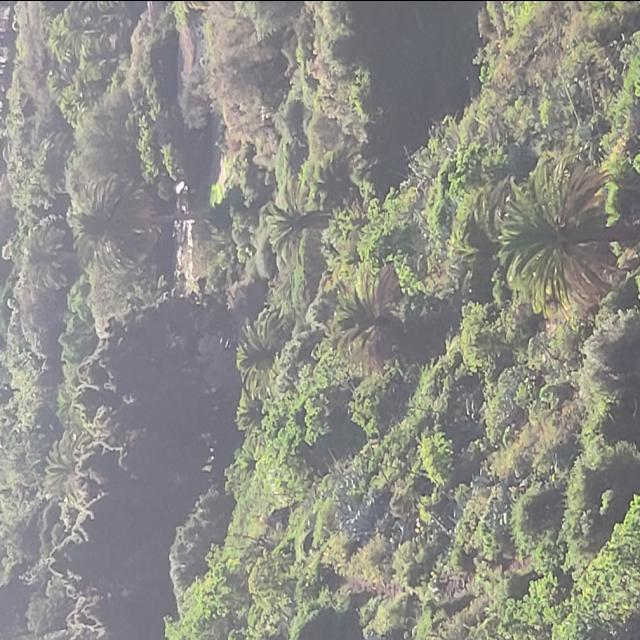Palm-Trees: (502, 162, 638, 306), (73, 170, 210, 274), (329, 266, 417, 370), (268, 181, 336, 263), (234, 299, 297, 387)
